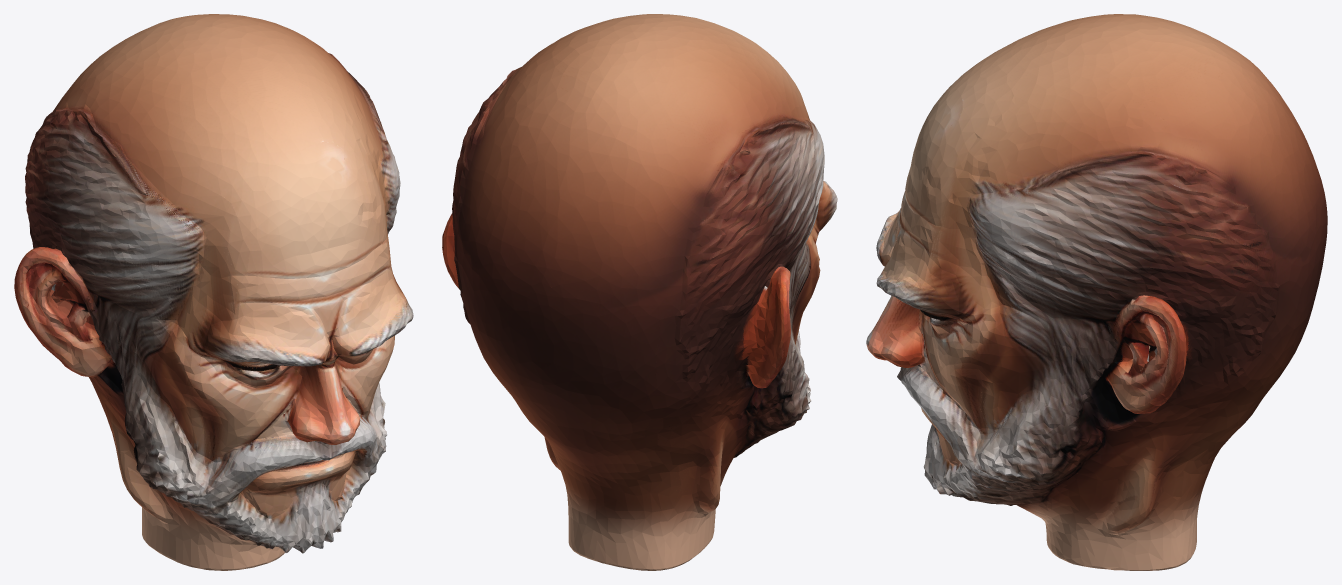
The model's file is side_swordsmith_repaired_atlas.glb.
3 renders of one model, left to right at view 1: azimuth 30°, elevation 25°; view 2: azimuth 150°, elevation 25°; view 3: azimuth 270°, elevation 25°, orthographic.
Parts seen in each view (by area): view 1: temp_mesh.ply; view 2: temp_mesh.ply; view 3: temp_mesh.ply.
Part boxes in pixels (<box>): temp_mesh.ply: <box>14,14,413,570</box>; temp_mesh.ply: <box>442,14,837,570</box>; temp_mesh.ply: <box>866,14,1327,570</box>.
Size of the model in its own units: 1.09 by 1.51 by 1.23.
1 material, 1 textured.
